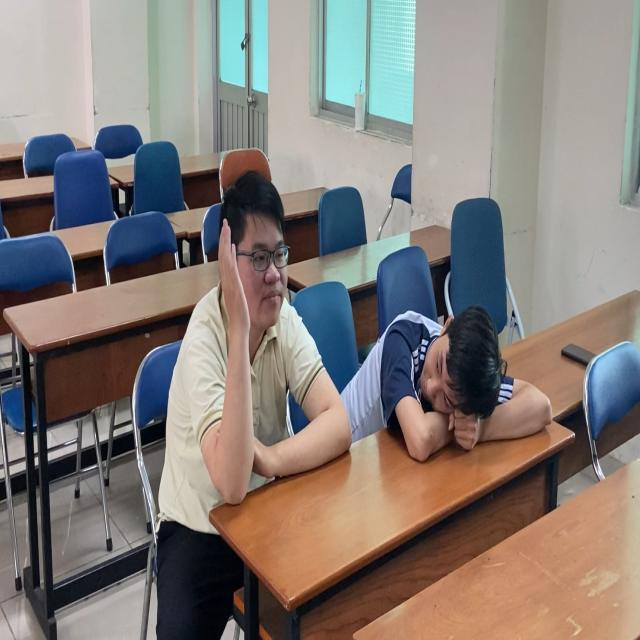raise_hand: (172, 167, 319, 519)
sleep: (351, 302, 563, 469)
